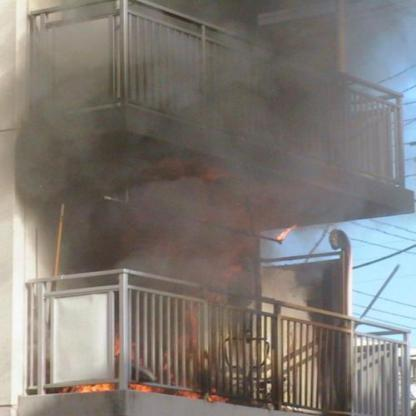fire: (95, 272, 283, 398), (44, 373, 100, 396)
smoke: (25, 10, 349, 260)
